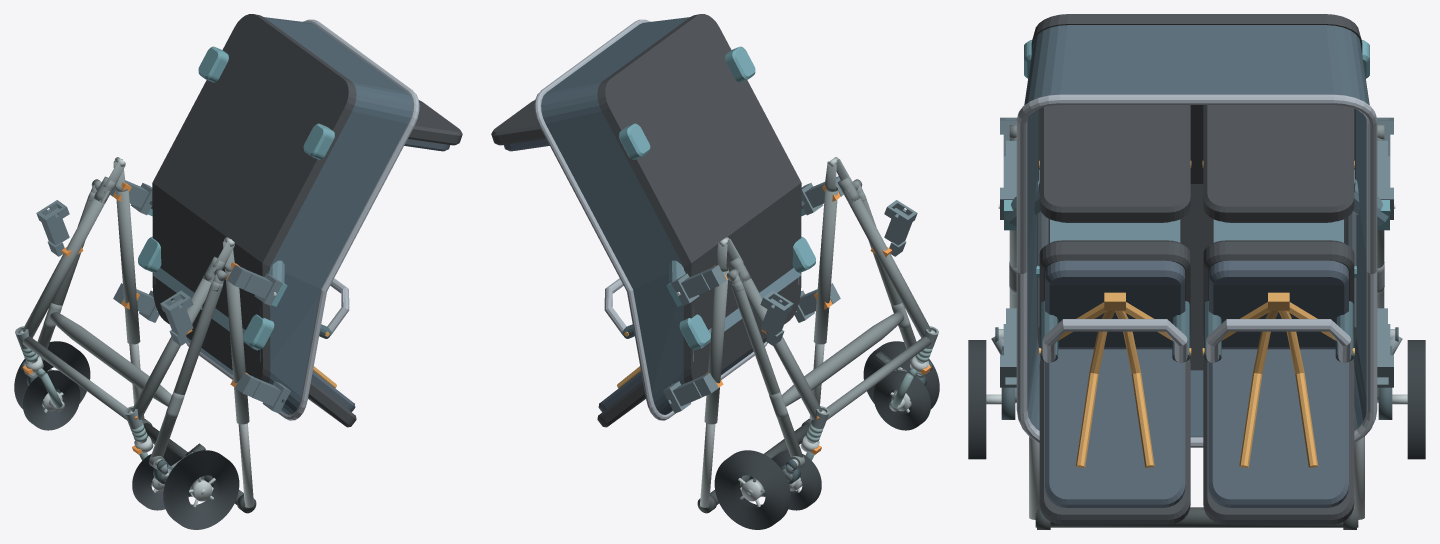
File: S12_w650_state3_wheel_S.glb
3 renders of one model, left to right at view 1: azimuth 30°, elevation 25°; view 2: azimuth 150°, elevation 25°; view 3: azimuth 270°, elevation 25°, orthographic. The views are drawn at different scales.
Visible parts, largest first — view 1: S12_Cabin, RL_tire.008, FR_tire.008, V46_rearbar.009, main_lower_1.009, main_upper_1.009, V46_rear_leg_-1.009, main_upper_-1.009, main_lower_-1.009, front_fixed_round_tube.008, RR_tire.008, FL_tire.008 (+9 smaller); view 2: S12_Cabin, RR_tire.008, FL_tire.008, V46_rearbar.009, main_lower_-1.009, main_upper_-1.009, V46_rear_leg_1.009, main_upper_1.009, main_lower_1.009, front_fixed_round_tube.008, FR_tire.008, RL_tire.008 (+9 smaller); view 3: S12_Cabin, RL_tire.008, RR_tire.008, round_handle.008, S12_Cabin_Mount_M, Universal_Cabin_Receiver_H_1, Universal_Cabin_Receiver_H_-1, Universal_Cabin_Receiver_M_1, Universal_Cabin_Receiver_M_-1, handle_slider_1.008, handle_slider_-1.008.
Part boxes in pixels (x1,y1,x2,y2): S12_Cabin: [138, 14, 462, 427]; RL_tire.008: [163, 450, 239, 529]; FR_tire.008: [23, 370, 80, 430]; V46_rearbar.009: [49, 312, 171, 406]; main_lower_1.009: [22, 191, 109, 337]; main_upper_1.009: [115, 189, 140, 344]; V46_rear_leg_-1.009: [151, 281, 223, 457]; main_upper_-1.009: [225, 270, 249, 424]; main_lower_-1.009: [131, 276, 214, 419]; front_fixed_round_tube.008: [22, 336, 127, 419]; RR_tire.008: [14, 341, 90, 410]; FL_tire.008: [132, 450, 181, 510]; S12_Cabin: [491, 14, 815, 427]; RR_tire.008: [714, 450, 790, 529]; FL_tire.008: [873, 370, 930, 430]; V46_rearbar.009: [782, 312, 904, 406]; main_lower_-1.009: [844, 191, 931, 337]; main_upper_-1.009: [813, 189, 838, 344]; V46_rear_leg_1.009: [730, 281, 802, 457]; main_upper_1.009: [704, 268, 728, 424]; main_lower_1.009: [739, 276, 822, 419]; front_fixed_round_tube.008: [826, 336, 931, 419]; FR_tire.008: [771, 450, 821, 510]; RL_tire.008: [863, 341, 939, 410]; S12_Cabin: [1016, 14, 1377, 524]; RL_tire.008: [968, 340, 986, 459]; RR_tire.008: [1407, 340, 1425, 459]; round_handle.008: [1035, 507, 1358, 527]; S12_Cabin_Mount_M: [998, 169, 1395, 230]; Universal_Cabin_Receiver_H_1: [1377, 308, 1393, 387]; Universal_Cabin_Receiver_H_-1: [1000, 308, 1016, 387]; Universal_Cabin_Receiver_M_1: [1377, 140, 1393, 219]; Universal_Cabin_Receiver_M_-1: [1000, 140, 1016, 219]; handle_slider_1.008: [1353, 437, 1364, 519]; handle_slider_-1.008: [1029, 437, 1040, 519].
Bounding box in the file's own units: 0.982 × 1.09 × 0.766.
